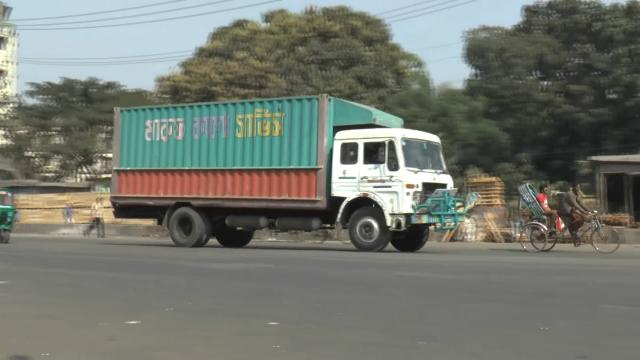truck: (100, 83, 460, 262)
